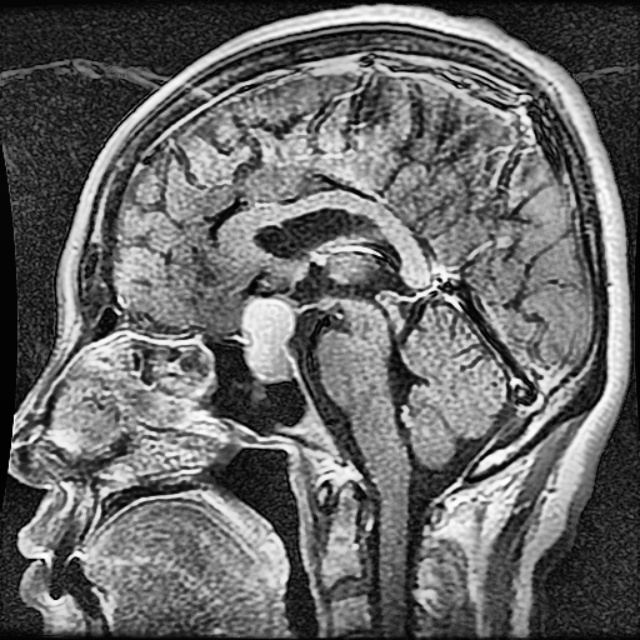Pituitary: (240, 299, 292, 380)
